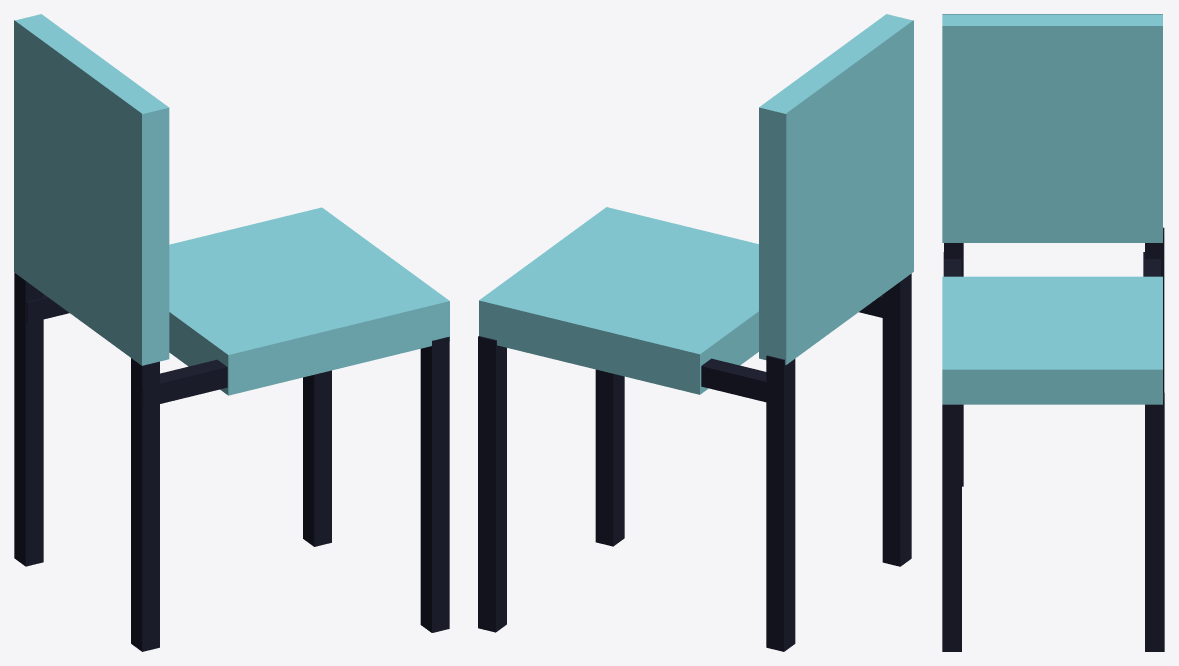
Rendered from cadeira.glb.
The picture shows the model from 3 angles, left to right: view 1: azimuth 30°, elevation 25°; view 2: azimuth 150°, elevation 25°; view 3: azimuth 270°, elevation 25°; orthographic projection. The views are drawn at different scales.
Parts seen in each view (by area): view 1: Cube.005; view 2: Cube.005; view 3: Cube.005.
Part boxes in pixels (box(x1,y1,x2,y2)): Cube.005: box(14, 14, 449, 651); Cube.005: box(478, 14, 913, 651); Cube.005: box(942, 14, 1164, 651).
Size of the model in its own units: 2.78 by 5.09 by 2.02.
